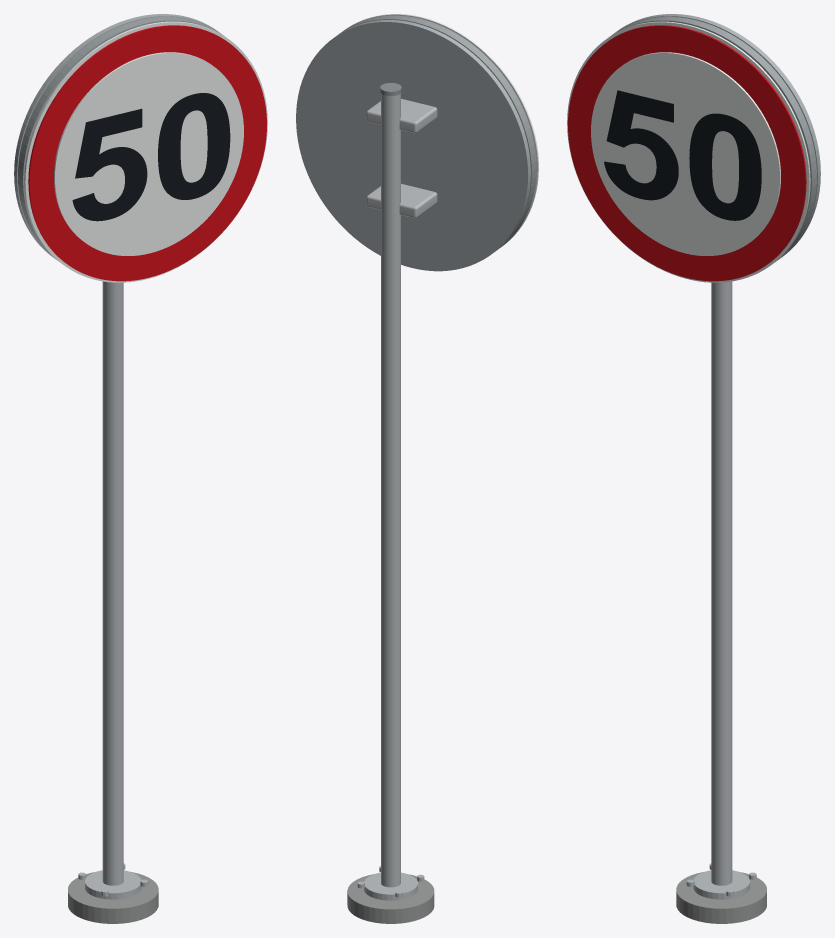
The picture shows the model from 3 angles, left to right: view 1: azimuth 30°, elevation 25°; view 2: azimuth 150°, elevation 25°; view 3: azimuth 330°, elevation 25°; orthographic projection. The views are drawn at different scales.
Visible parts, largest first — view 1: B-33 white central disc radius 312 mm, B-33 red surround 80 mm width, Steel pole OD 60 mm hot-dip galvanized, B-33 black 50 centred 520 by 330 mm, Concrete base collar, Extruded metal rolled lip, B-33 white full diameter 800 mm foil, 3D stamped steel reverse sheet, Mast foot flange 160mm; view 2: 3D stamped steel reverse sheet, Steel pole OD 60 mm hot-dip galvanized, Concrete base collar, Extruded metal rolled lip, Folded sign-to-mast omega bracket, Folded sign-to-mast omega bracket.001, Mast foot flange 160mm, B-33 white full diameter 800 mm foil; view 3: B-33 white central disc radius 312 mm, B-33 red surround 80 mm width, Steel pole OD 60 mm hot-dip galvanized, B-33 black 50 centred 520 by 330 mm, Concrete base collar, Extruded metal rolled lip, B-33 white full diameter 800 mm foil, 3D stamped steel reverse sheet, Mast foot flange 160mm.
Boxes of the visible parts, x1=… form: B-33 white central disc radius 312 mm: x1=54, y1=52, x2=243, y2=255; B-33 red surround 80 mm width: x1=28, y1=25, x2=266, y2=281; Steel pole OD 60 mm hot-dip galvanized: x1=102, y1=281, x2=123, y2=885; B-33 black 50 centred 520 by 330 mm: x1=72, y1=93, x2=230, y2=221; Concrete base collar: x1=68, y1=872, x2=158, y2=923; Extruded metal rolled lip: x1=18, y1=16, x2=223, y2=261; B-33 white full diameter 800 mm foil: x1=24, y1=21, x2=267, y2=282; 3D stamped steel reverse sheet: x1=14, y1=14, x2=216, y2=255; Mast foot flange 160mm: x1=85, y1=870, x2=141, y2=899; 3D stamped steel reverse sheet: x1=296, y1=20, x2=530, y2=271; Steel pole OD 60 mm hot-dip galvanized: x1=381, y1=93, x2=400, y2=887; Concrete base collar: x1=347, y1=874, x2=434, y2=923; Extruded metal rolled lip: x1=339, y1=15, x2=536, y2=249; Folded sign-to-mast omega bracket: x1=366, y1=183, x2=437, y2=218; Folded sign-to-mast omega bracket.001: x1=366, y1=98, x2=437, y2=133; Mast foot flange 160mm: x1=364, y1=872, x2=417, y2=900; B-33 white full diameter 800 mm foil: x1=345, y1=14, x2=538, y2=244; B-33 white central disc radius 312 mm: x1=591, y1=52, x2=780, y2=255; B-33 red surround 80 mm width: x1=568, y1=25, x2=806, y2=281; Steel pole OD 60 mm hot-dip galvanized: x1=711, y1=281, x2=732, y2=885; B-33 black 50 centred 520 by 330 mm: x1=604, y1=90, x2=761, y2=220; Concrete base collar: x1=676, y1=872, x2=766, y2=923; Extruded metal rolled lip: x1=611, y1=16, x2=816, y2=261; B-33 white full diameter 800 mm foil: x1=567, y1=21, x2=810, y2=282; 3D stamped steel reverse sheet: x1=618, y1=14, x2=820, y2=255; Mast foot flange 160mm: x1=693, y1=870, x2=749, y2=899.
Size of the model in its own units: 0.8 by 2.85 by 0.3506.
